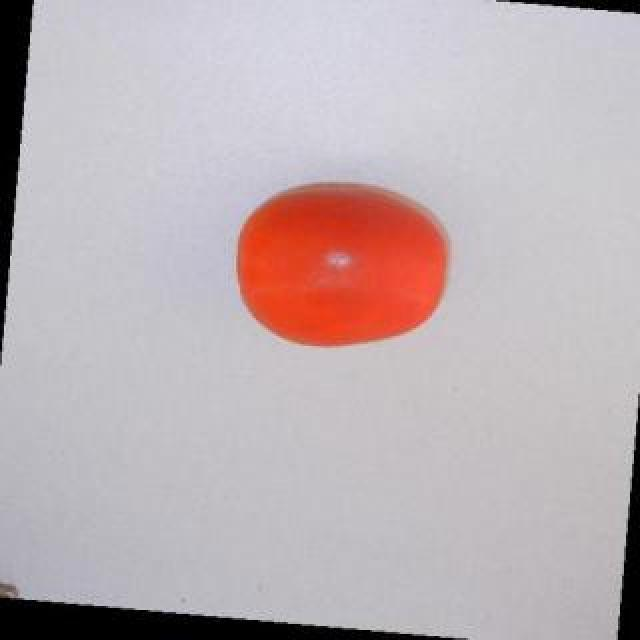tomato: (217, 167, 465, 377)
